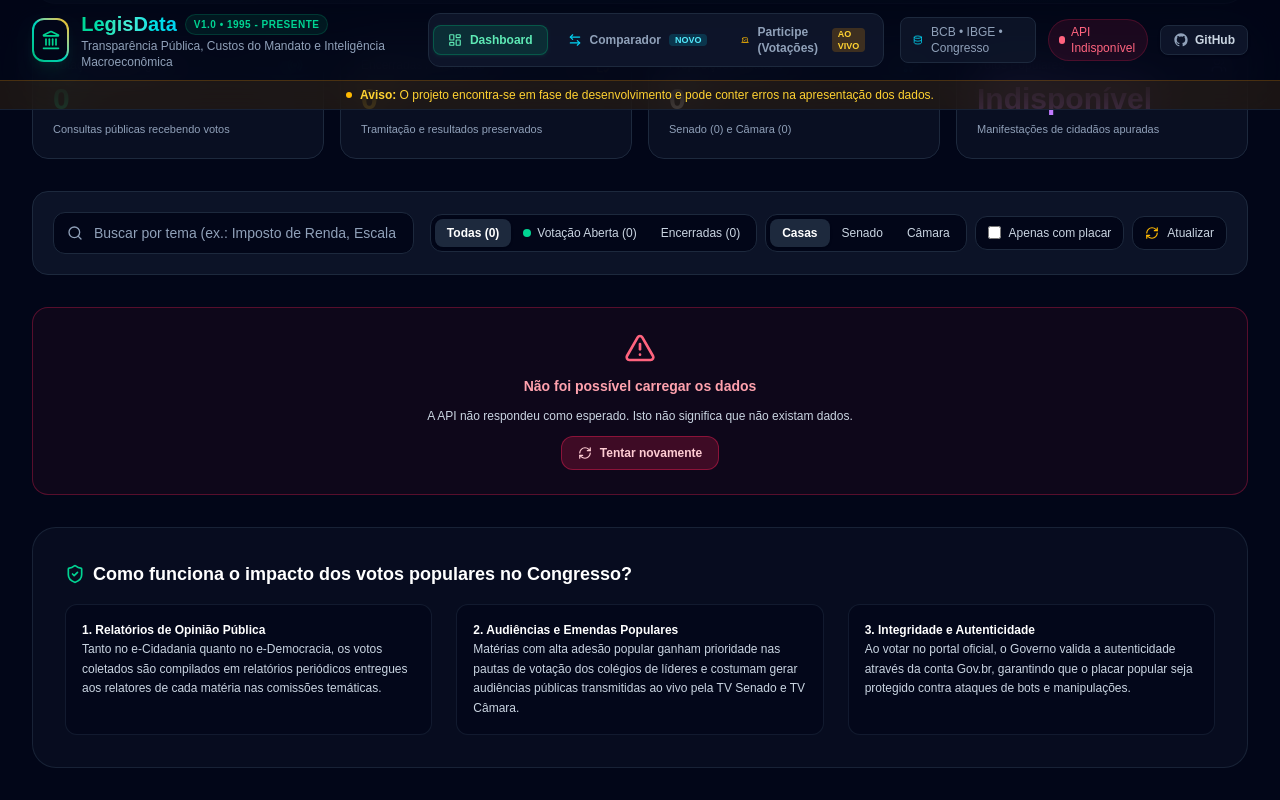
CidadaniaPage › erro na primeira carga mostra alerta e retry
The image size is (1280, 800).
(page scrolled)
Check: the message that starts with "Não foi possível carregar os dados" is shown, box [32,306,1248,494]
Step 1. Click the button "Tentar novamente" → point(640, 452), box [561,436,719,470]
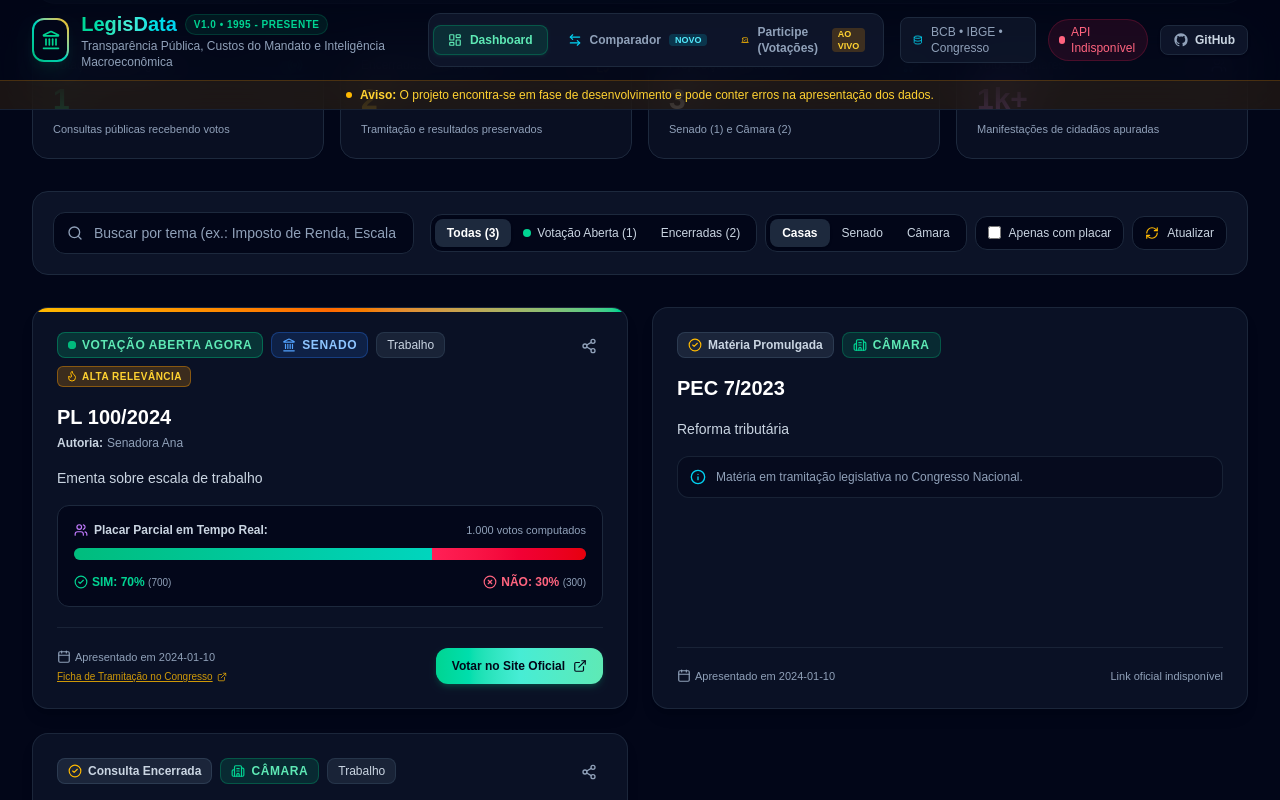
Check: the heading "PL 100/2024" is shown, box [57,406,171,428]
